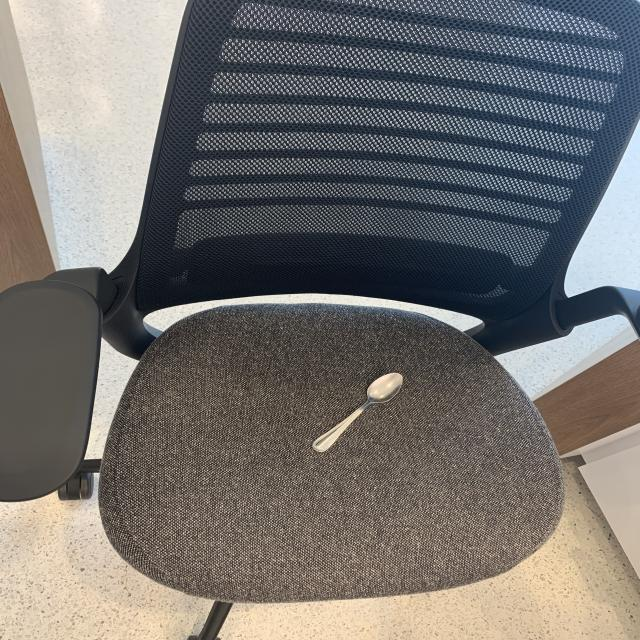Spoon: (298, 370, 422, 452)
